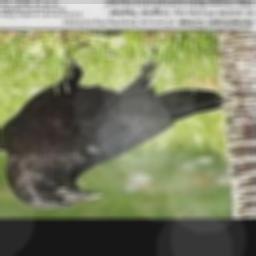Crow: (0, 31, 227, 211)
